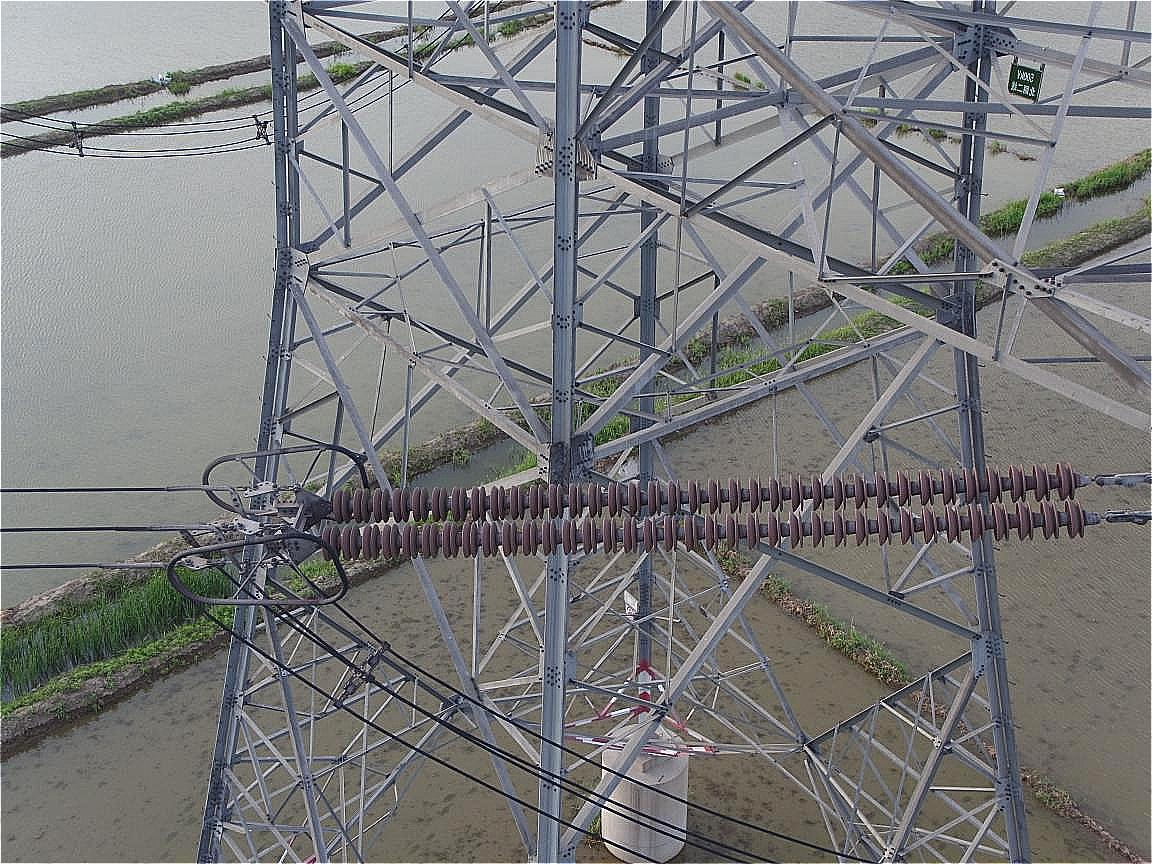insultor2: (300, 466, 1115, 570)
